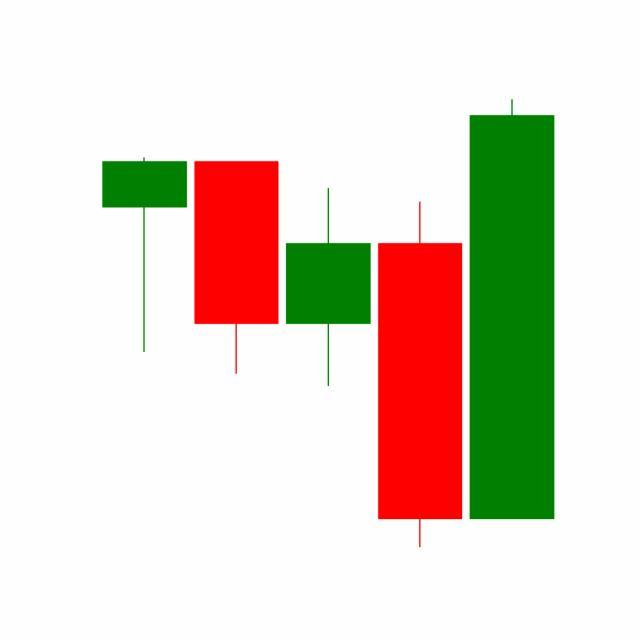Marubozu: (466, 94, 559, 524)
